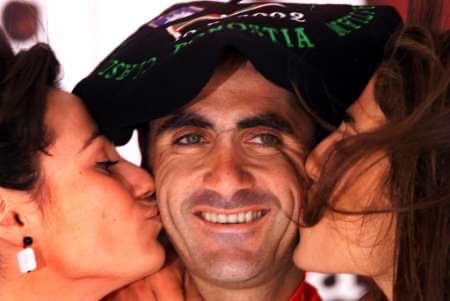Face: (143, 97, 328, 287), (283, 100, 398, 286), (62, 108, 176, 288)
